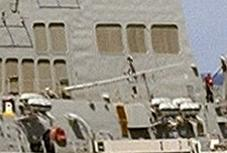rust: (112, 106, 138, 136)
